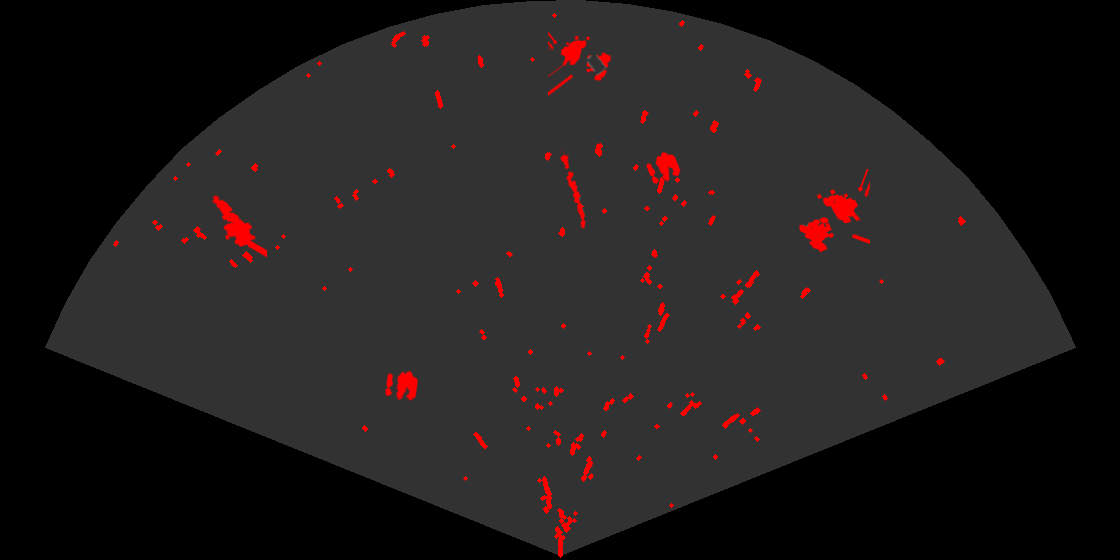ball: (645, 151, 682, 186), (384, 369, 420, 403)
cage: (797, 169, 870, 254), (548, 30, 613, 98)
chain: (559, 149, 587, 231)
frogman: (211, 194, 267, 258)
